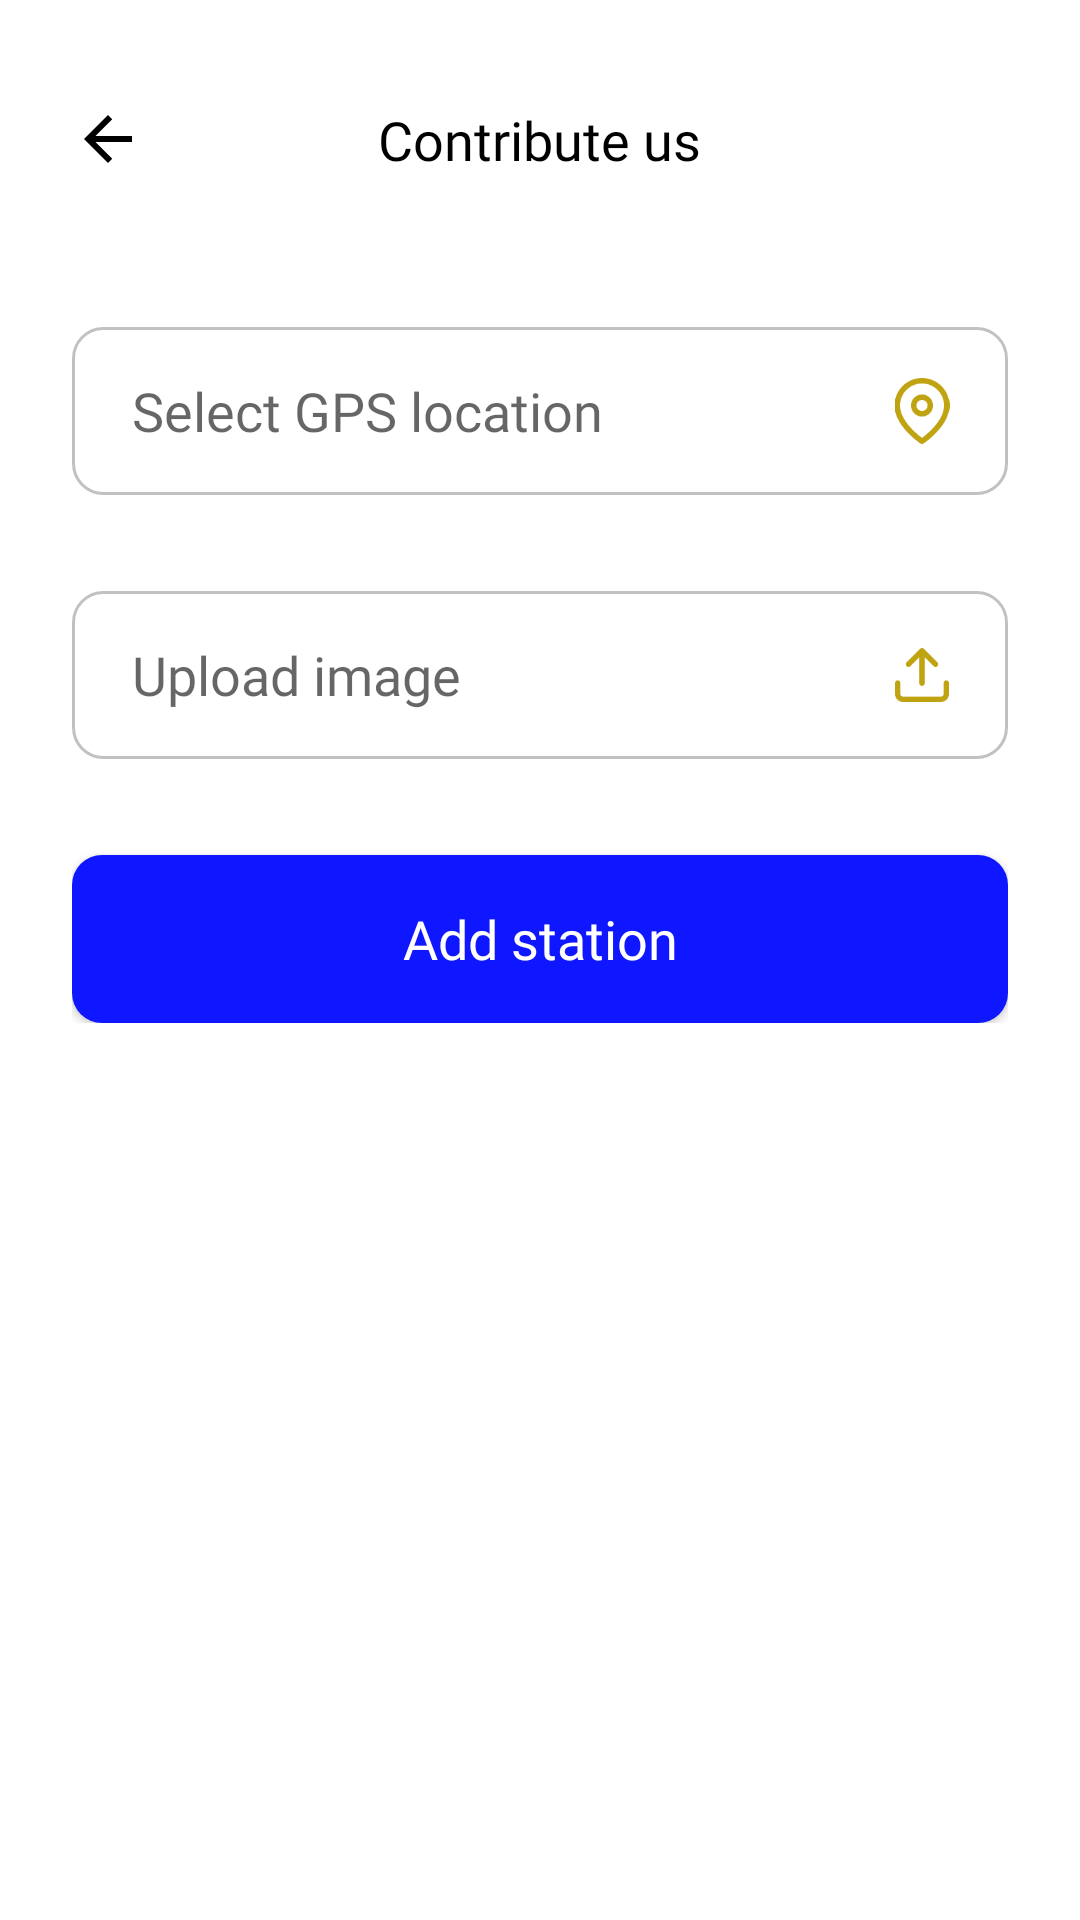

Icon click points for this 1080w x 1920h phone screenshot, format point (x, y):
arrow back: point (108, 139)
